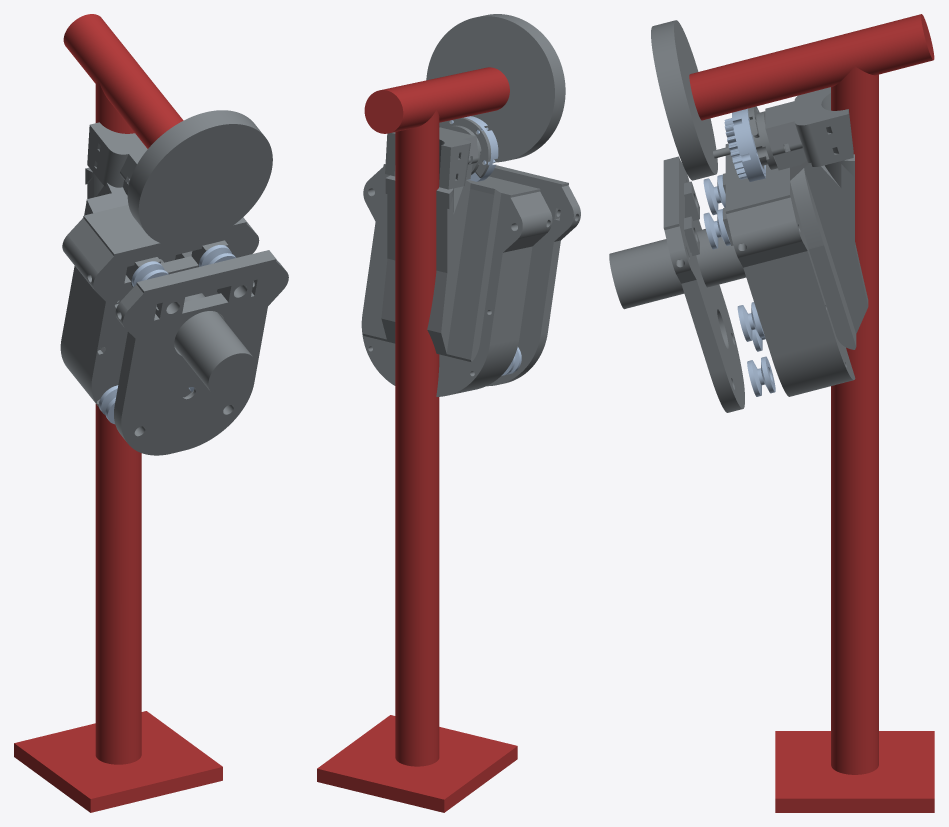
File: RotiranjeKormana.obj
The picture shows the model from 3 angles, left to right: view 1: azimuth 30°, elevation 25°; view 2: azimuth 150°, elevation 25°; view 3: azimuth 270°, elevation 25°; orthographic projection. The views are drawn at different scales.
Visible parts, largest first — view 1: RotiranjeKormana; view 2: RotiranjeKormana; view 3: RotiranjeKormana.
Part boxes in pixels (box(x1,y1,x2,y2)): RotiranjeKormana: box(14, 14, 288, 812); RotiranjeKormana: box(317, 14, 580, 812); RotiranjeKormana: box(609, 14, 934, 812).
Size of the model in its own units: 125 by 527 by 204.
